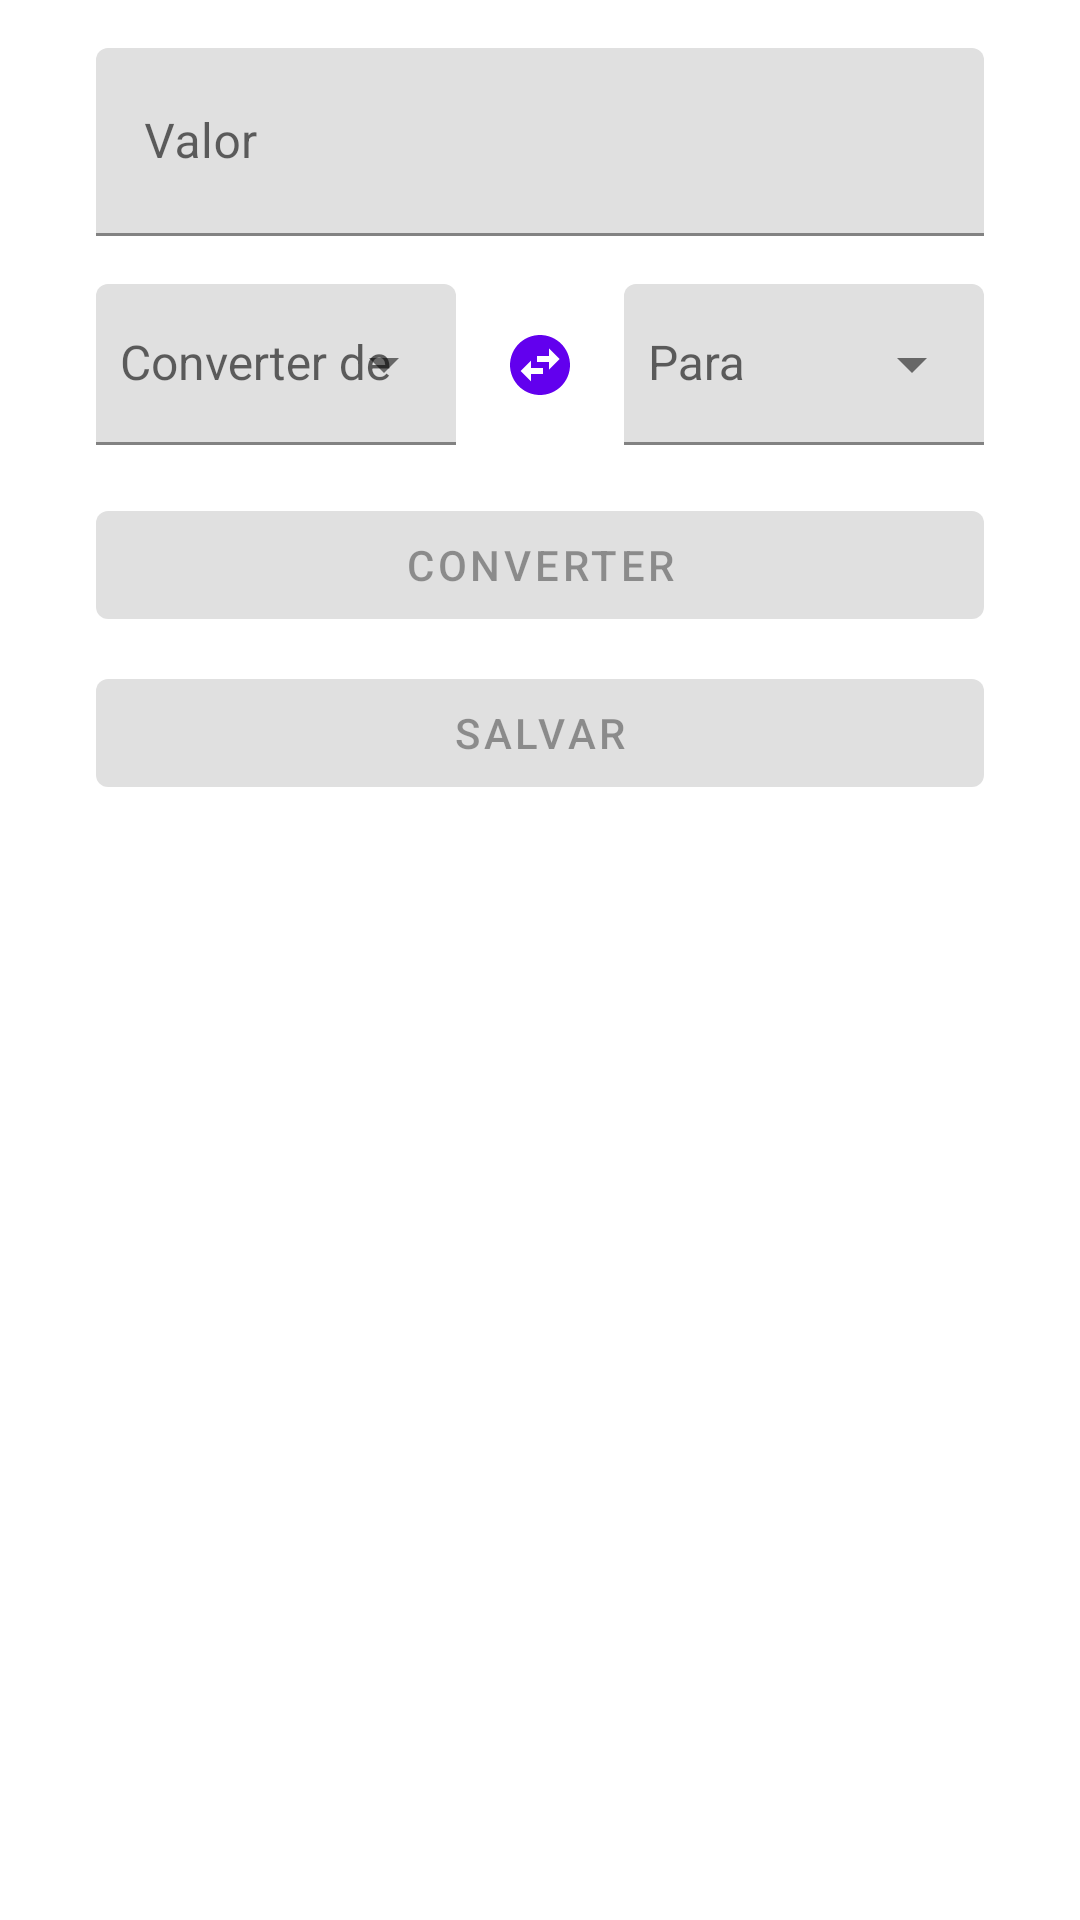

Locate icon controls on the screen. Image size 1080px x 1920px, boxes as (x1, y1, x2, y2).
swap: (510, 335, 570, 395)
